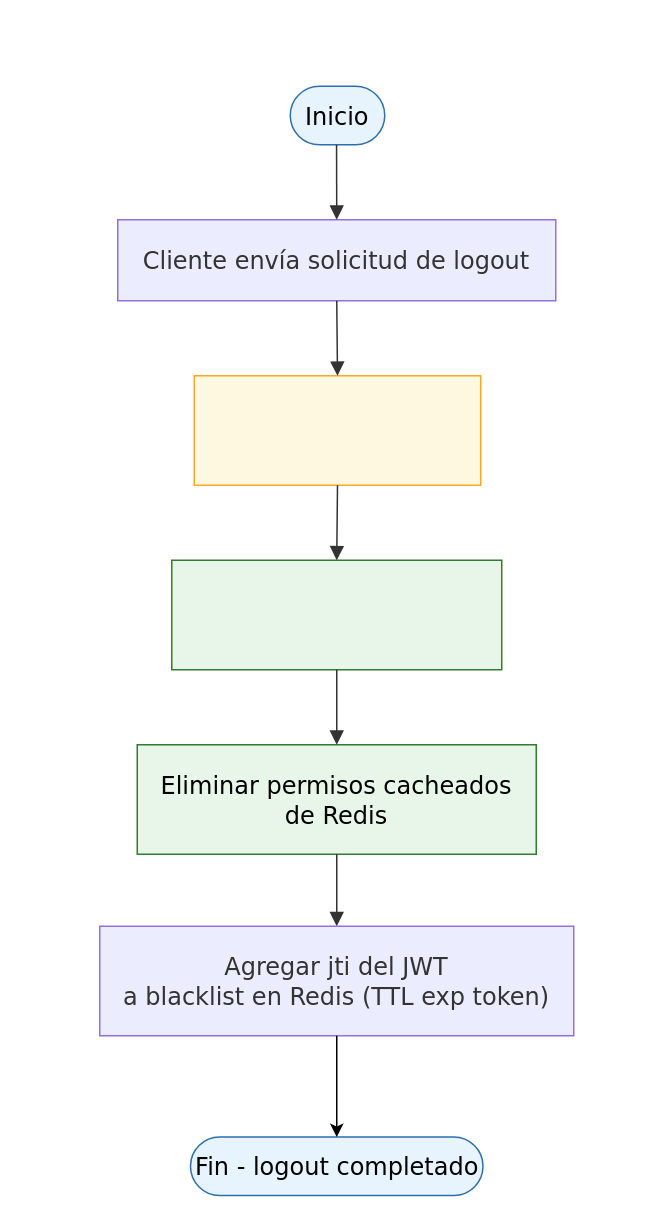
Some shapes in this 647 by 1221 pixel diagram are drawn without their labels. Each missing label, with the centre of its shape:
"Eliminar refresh token de Redis" belongs at (x=336, y=614).
"Identificar usuario y/o refresh token" belongs at (x=337, y=429).
